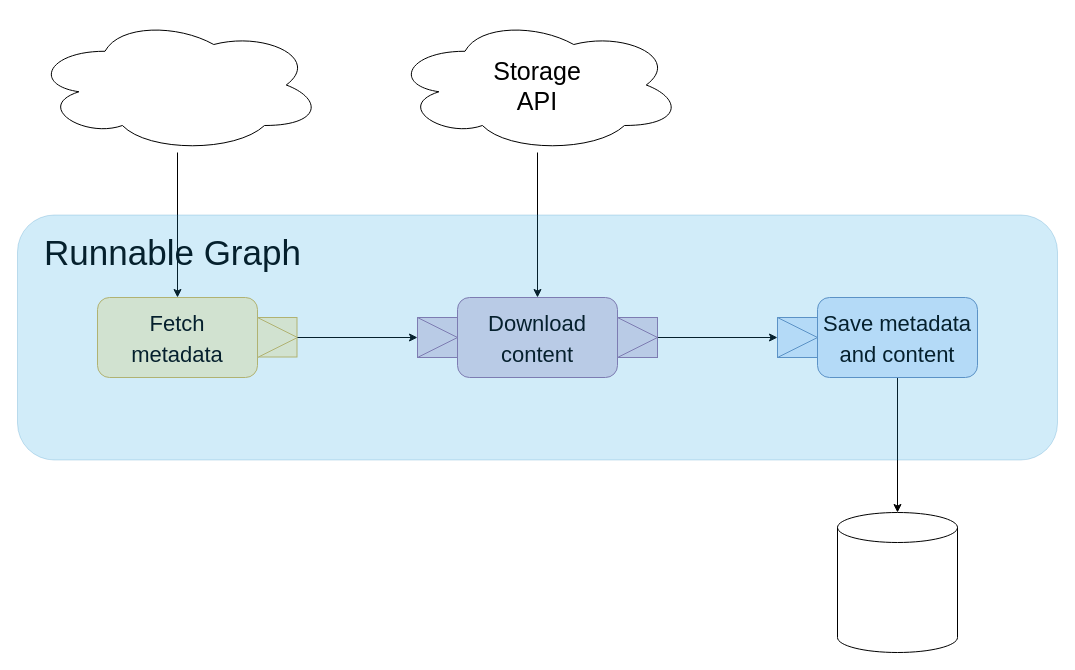
Image size: 1075x670. Some labels were removed from this diagram. Each missing label, with the centre of its shape:
Database: [897,582]
Metadata API: [177,84]
